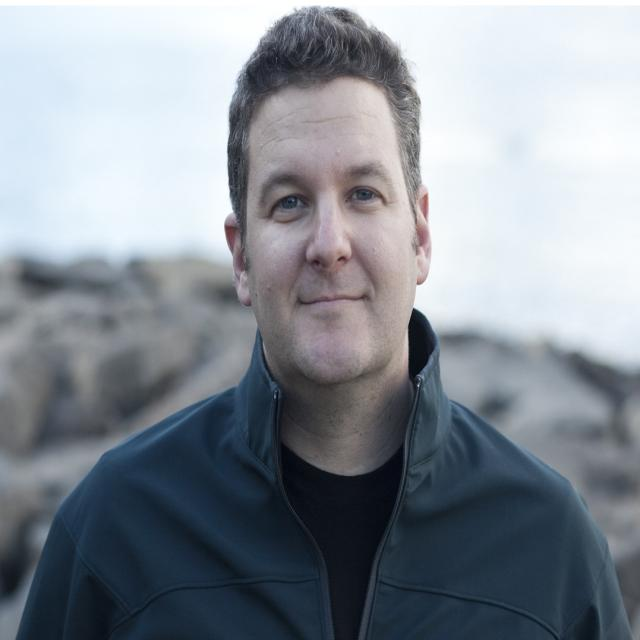human: (50, 24, 635, 640)
